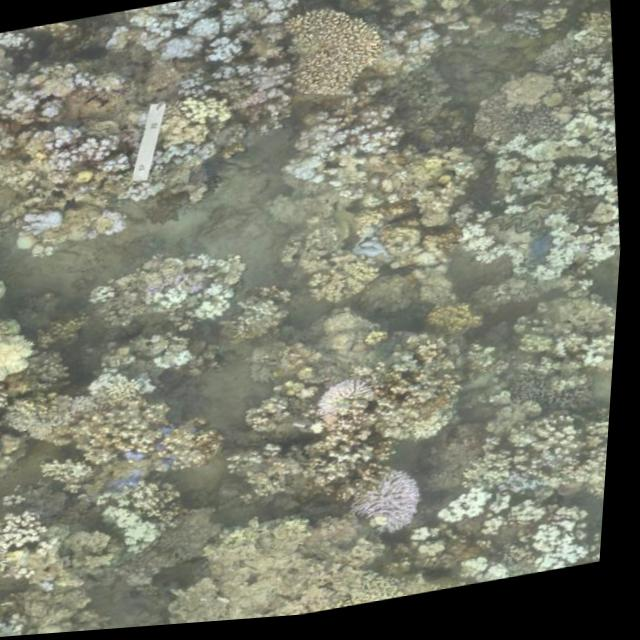Bleached Coral: (147, 81, 275, 210), (275, 95, 408, 200), (124, 0, 295, 77), (82, 341, 217, 416), (113, 468, 193, 558), (141, 278, 243, 340), (366, 461, 436, 548), (534, 509, 611, 582), (42, 124, 135, 183), (0, 77, 71, 133), (314, 375, 389, 428), (438, 477, 500, 540), (0, 499, 58, 563), (20, 193, 82, 252), (451, 0, 596, 19), (0, 610, 40, 638), (70, 67, 100, 95)
